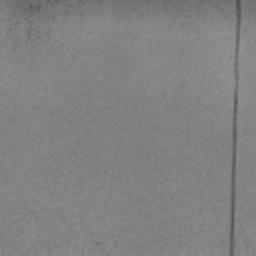Scratches: (229, 0, 242, 256), (29, 3, 41, 13)
